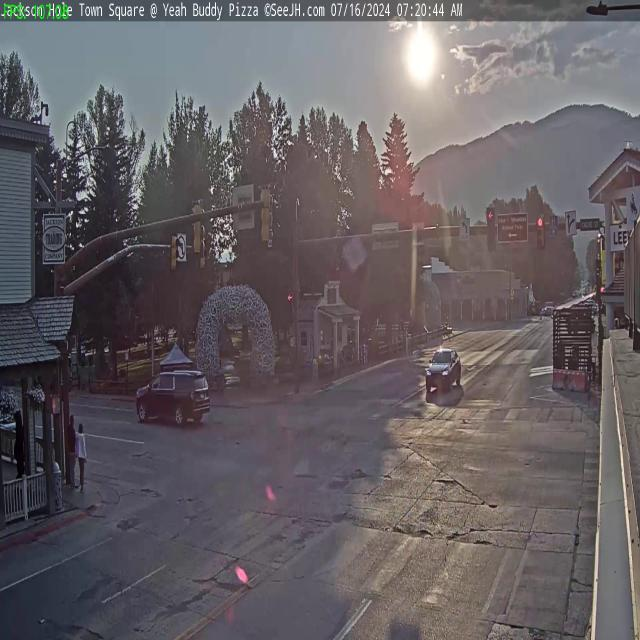person: (67, 412, 77, 485), (78, 418, 84, 494)
sedan: (424, 345, 462, 395)
suv: (135, 362, 211, 430)
traffic light: (190, 200, 204, 256), (260, 184, 272, 246), (486, 208, 497, 254), (168, 233, 177, 272), (536, 215, 544, 248)
